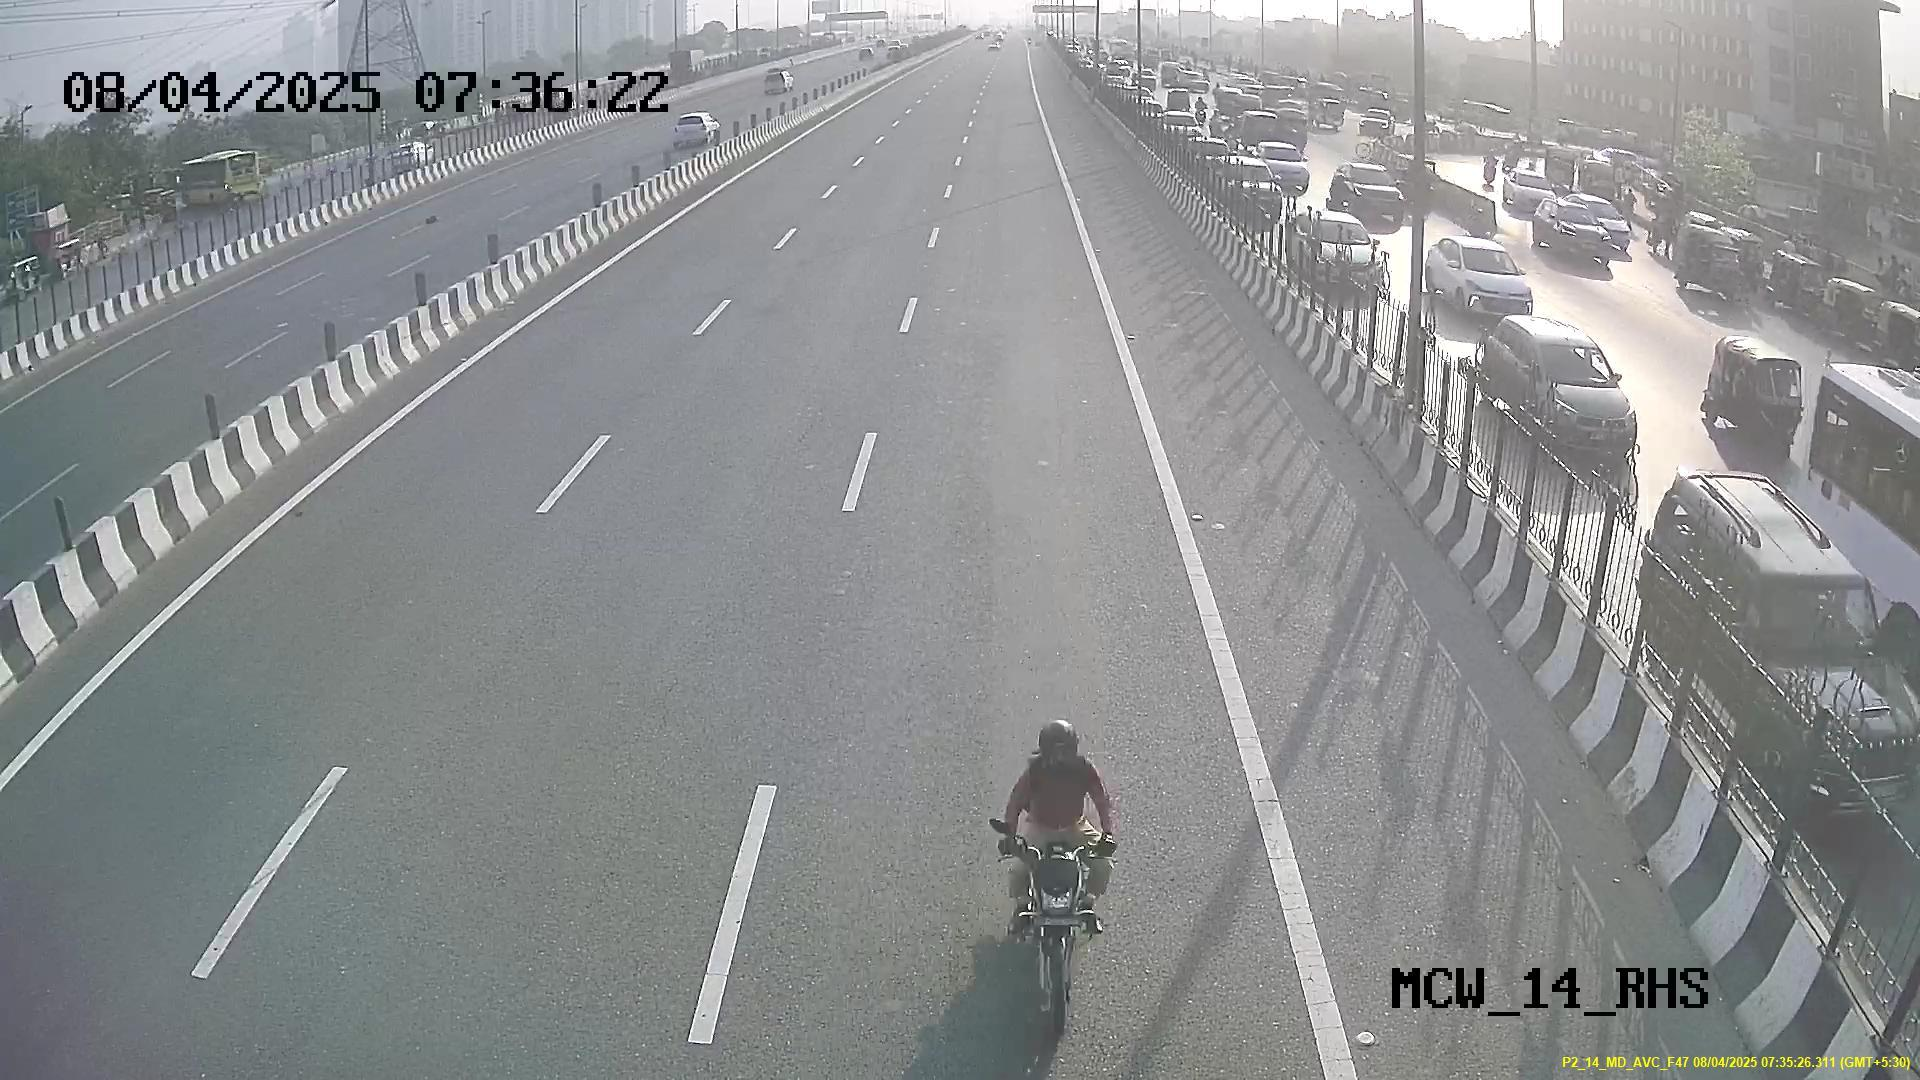bike: (984, 715, 1125, 1031)
